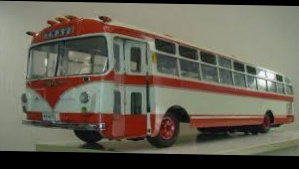bus: (24, 17, 299, 152)
